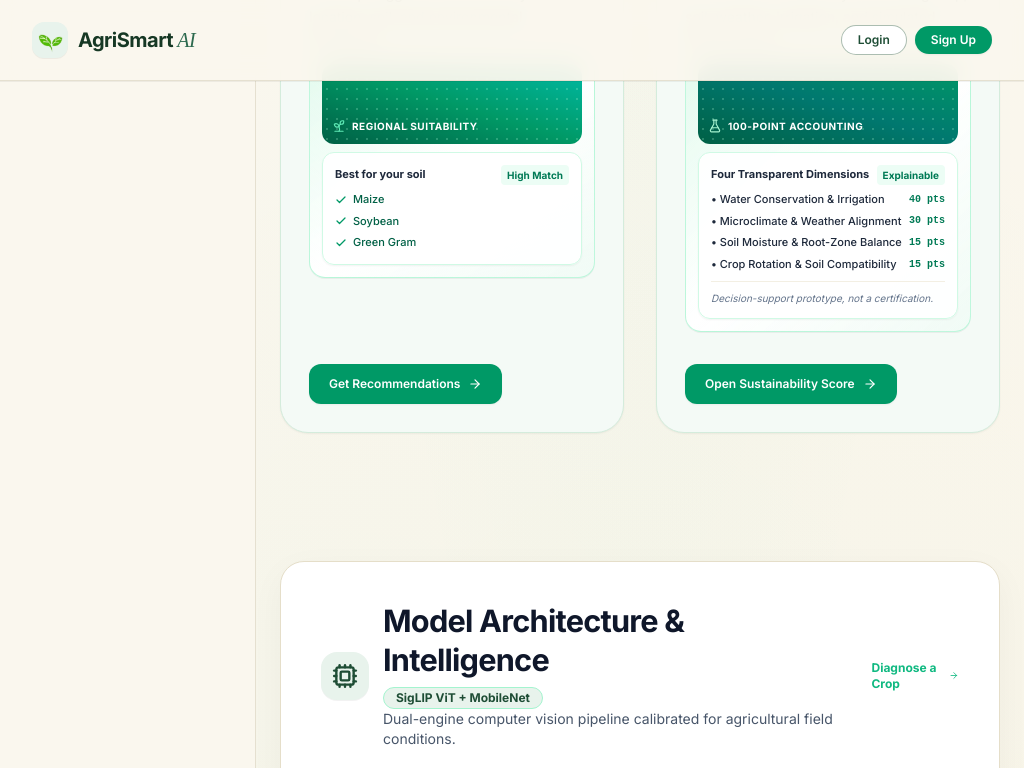
Test: Crop Recommendation Bonus Feature — Step 2 Layout and Navigation › navigates back to the Plant Diagnosis view when clicking Back to Plant Diagnosis
(page scrolled)
Click the button with aria-label "try crop recommendation": click(406, 384) [309,364,502,404]
(page scrolled)
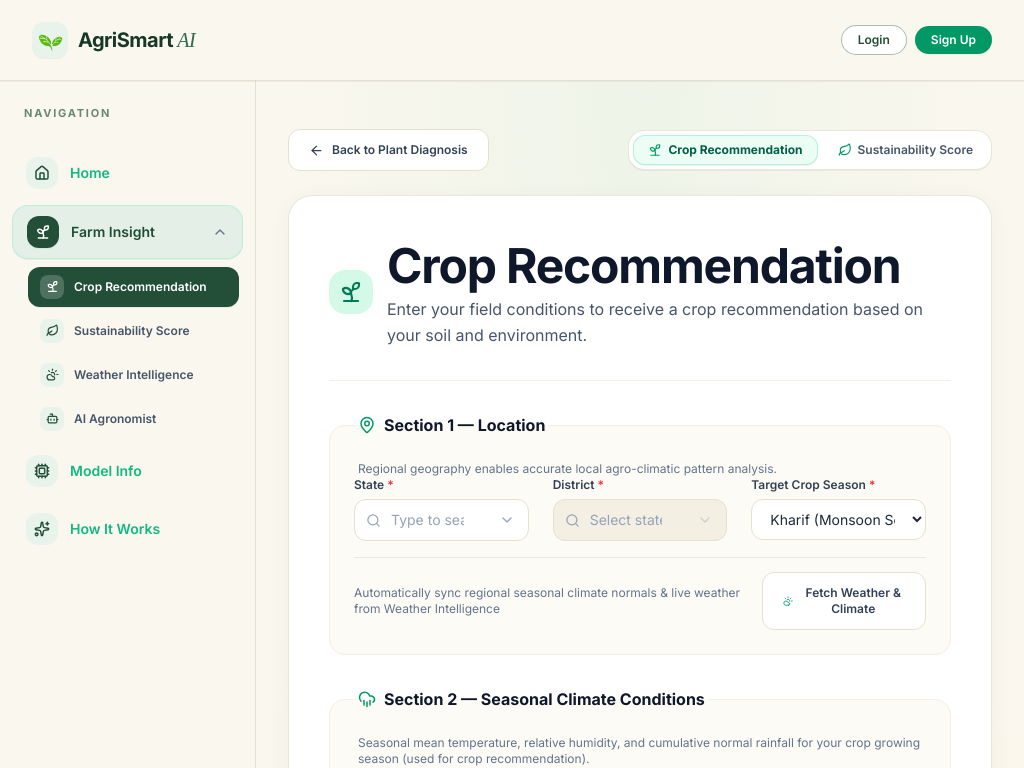
Click the button "Back to Plant Diagnosis": click(388, 150) [288,129,489,171]
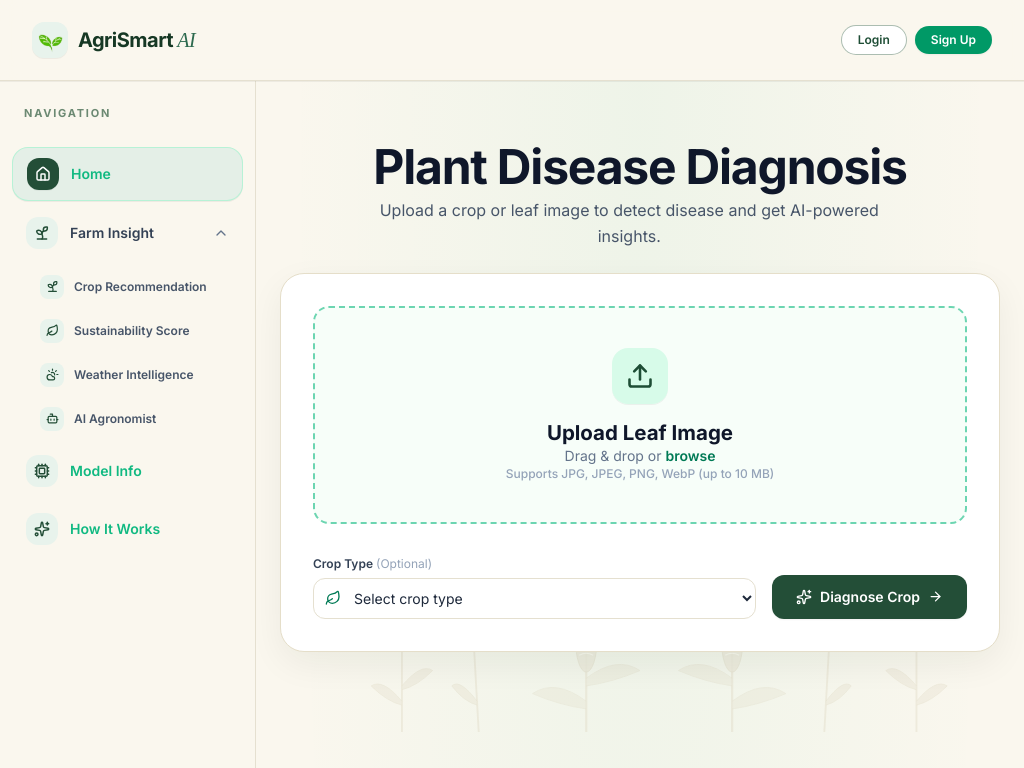
Check: the heading "Plant Disease Diagnosis" is shown, box [373,137,907,197]
